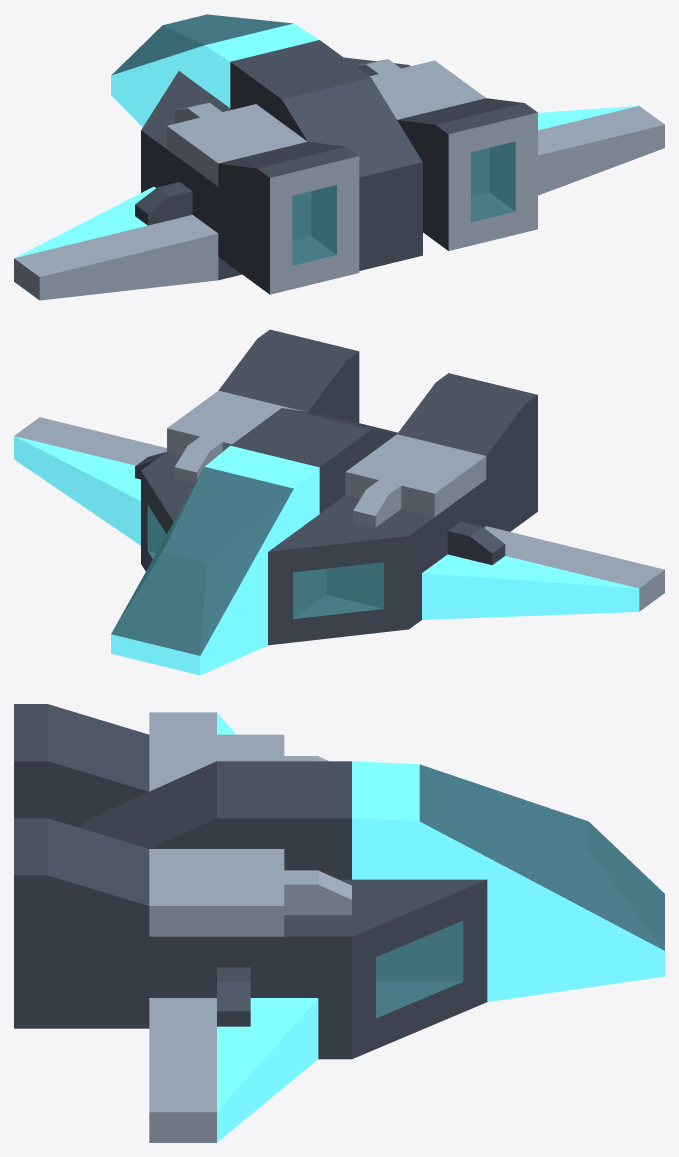
Rendered from craft_speederC.glb.
3 renders of one model, top to bottom at view 1: azimuth 30°, elevation 25°; view 2: azimuth 150°, elevation 25°; view 3: azimuth 270°, elevation 25°, orthographic. The views are drawn at different scales.
Visible parts, largest first — view 1: craft_speederC; view 2: craft_speederC; view 3: craft_speederC.
Part boxes in pixels (x1=…): craft_speederC: x1=14, y1=14, x2=664, y2=300; craft_speederC: x1=14, y1=329, x2=664, y2=675; craft_speederC: x1=14, y1=704, x2=664, y2=1142.
Size of the model in its own units: 2.8 by 0.6 by 1.93.
